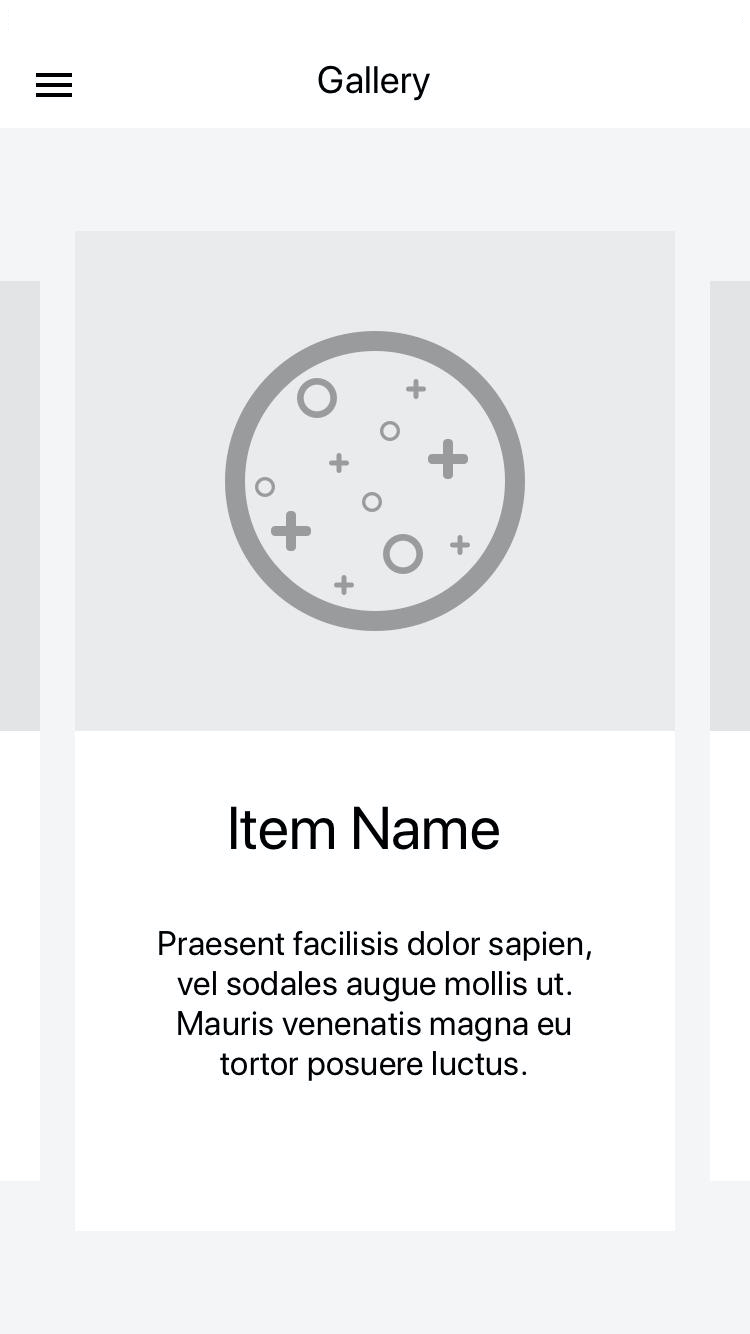Icon: (37, 73, 74, 99)
Image: (76, 232, 675, 731)
Text: (159, 930, 592, 1083), (230, 806, 500, 851), (318, 66, 431, 102)
